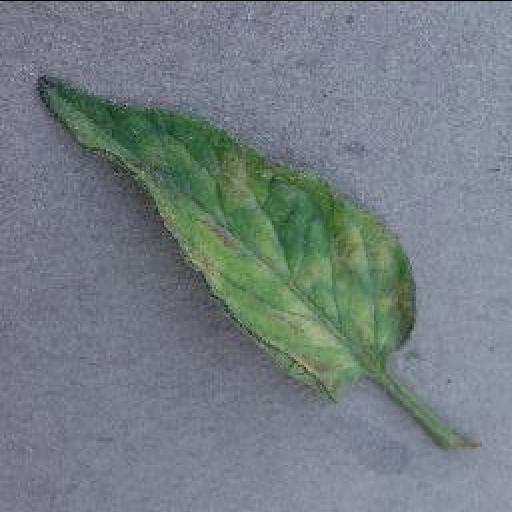disease_tomato: (35, 74, 417, 406)
